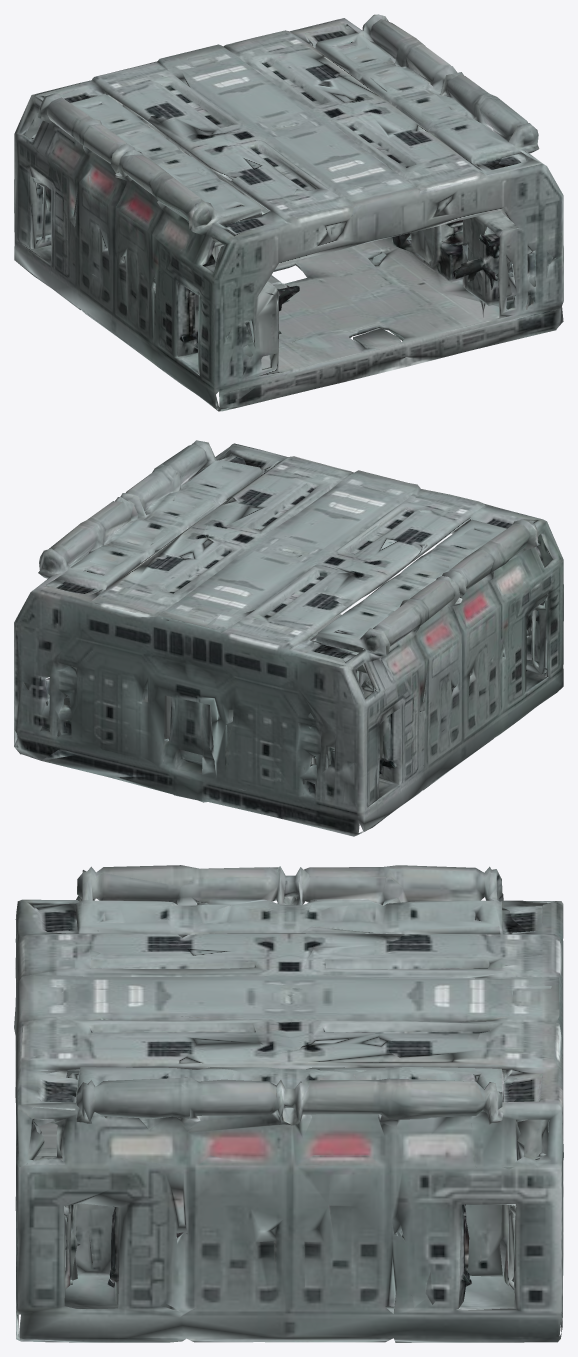
Rendered from station_marine_barracks.repacked.glb.
3 views of the same model, one above another, from view 1: azimuth 30°, elevation 25°; view 2: azimuth 150°, elevation 25°; view 3: azimuth 270°, elevation 25° (orthographic). The views are drawn at different scales.
Parts seen in each view (by area): view 1: Mesh1.0; view 2: Mesh1.0; view 3: Mesh1.0.
Part boxes in pixels (x1,y1,x2,y2): Mesh1.0: [14, 14, 563, 411]; Mesh1.0: [14, 440, 563, 836]; Mesh1.0: [14, 865, 563, 1342].
Bounding box in the file's own units: 1.91 × 1 × 1.92.
Materials: 1 (1 with a texture image).
